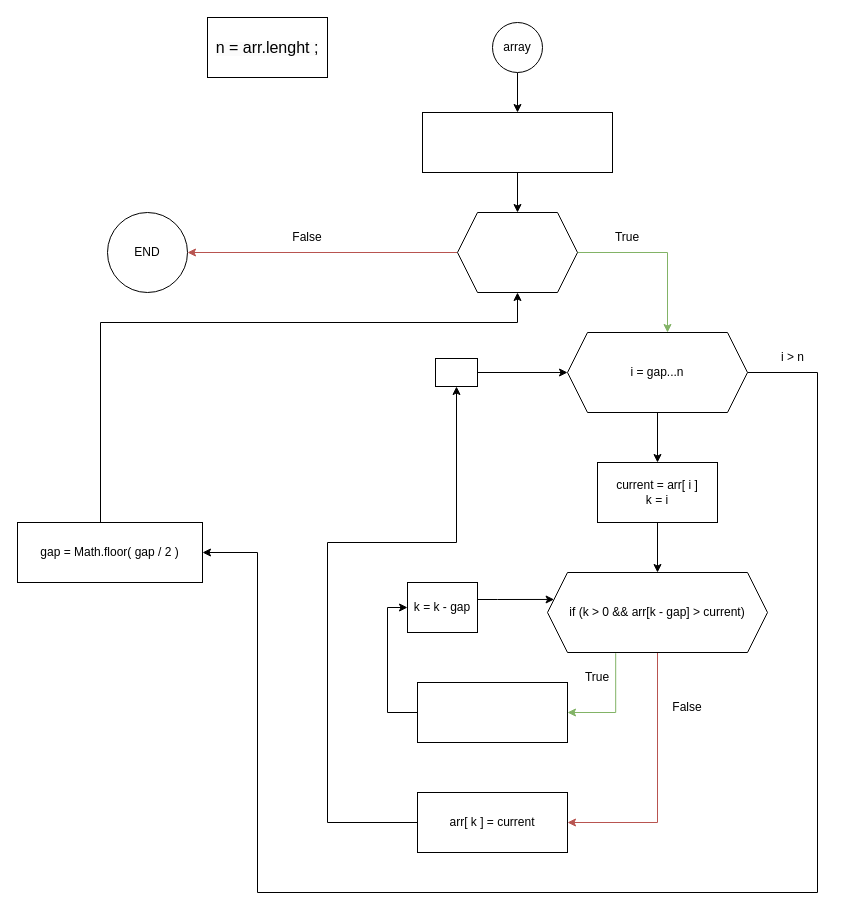
Some shapes in this 843 by 918 pixel diagram are drawn without their labels. The box of each missing label's shape, as (x1, y1, x2, y2) in pixels:
arr[ k ] = arr [k - gap]: (416, 682, 568, 742)
gap = Math.floor(arr.length / 2): (422, 112, 612, 172)
i++: (434, 358, 478, 386)
if (gap >= 1): (456, 212, 578, 292)
